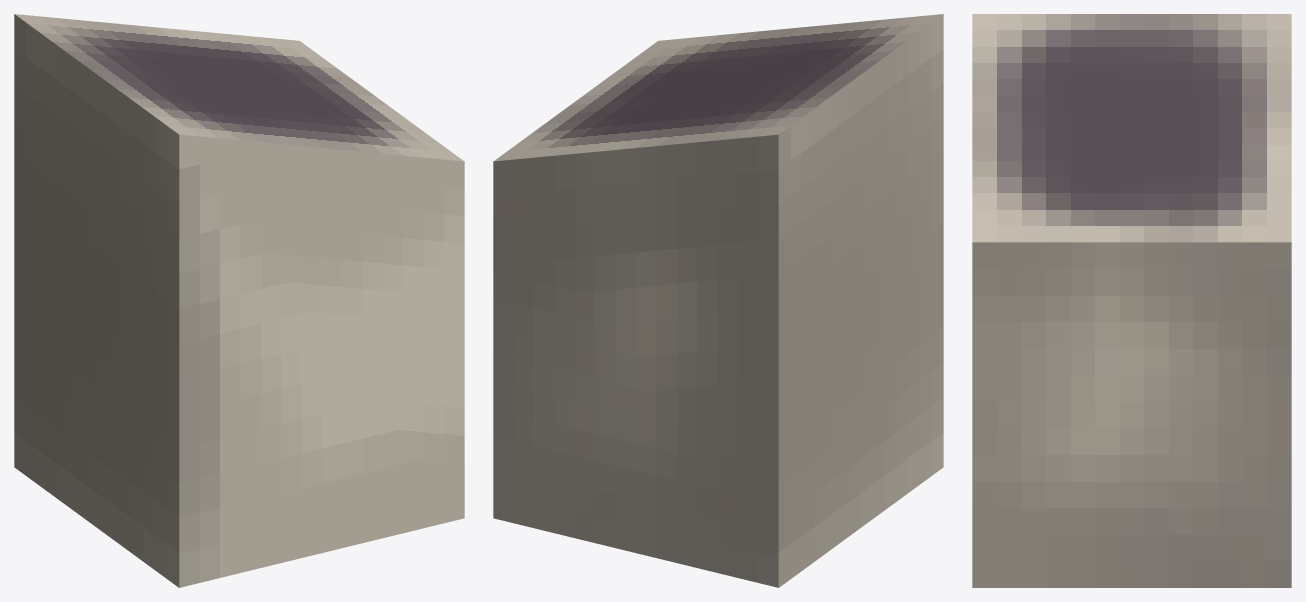
File: Podium.gltf
The picture shows the model from 3 angles, left to right: view 1: azimuth 30°, elevation 25°; view 2: azimuth 150°, elevation 25°; view 3: azimuth 270°, elevation 25°; orthographic projection. The views are drawn at different scales.
Visible parts, largest first — view 1: Cube; view 2: Cube; view 3: Cube.
Part boxes in pixels (x1,y1,x2,y2): Cube: [14, 14, 464, 587]; Cube: [493, 14, 943, 587]; Cube: [972, 14, 1291, 587].
Size of the model in its own units: 2 by 3.04 by 2.
1 material, 1 textured.
